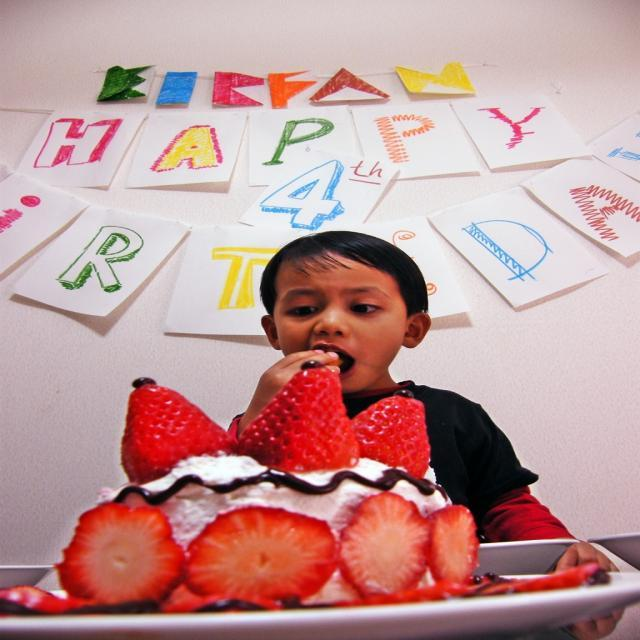Strawberry: (163, 490, 344, 621), (28, 495, 189, 613), (238, 354, 367, 474), (116, 380, 241, 492), (328, 494, 447, 598), (425, 510, 523, 605), (346, 388, 434, 484)
